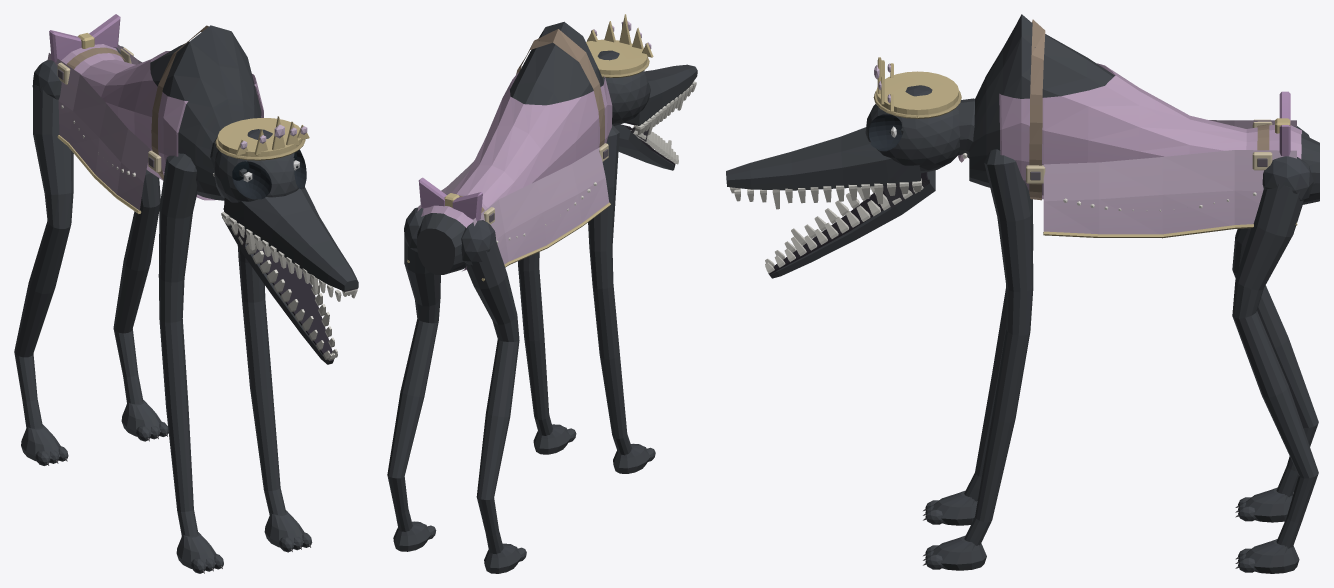
The model's file is LongmawPrincess.glb.
3 views of the same model, side by side, from view 1: azimuth 30°, elevation 25°; view 2: azimuth 150°, elevation 25°; view 3: azimuth 270°, elevation 25° (orthographic). The views are drawn at different scales.
Visible parts, largest first — view 1: Body, Head, ArmR, LegR, ArmL, LegL; view 2: Body, LegR, Head, LegL, ArmR, ArmL; view 3: Body, Head, LegL, ArmL, LegR, ArmR.
Boxes of the visible parts, x1,y1,x2,y2 form: Body: [47, 14, 263, 213]; Head: [210, 116, 358, 364]; ArmR: [158, 153, 223, 573]; LegR: [14, 60, 73, 465]; ArmL: [237, 245, 312, 552]; LegL: [113, 46, 168, 441]; Body: [407, 21, 612, 281]; LegR: [461, 220, 526, 573]; Head: [586, 14, 697, 170]; LegL: [387, 207, 440, 551]; ArmR: [588, 125, 655, 473]; ArmL: [518, 252, 576, 454]; Body: [958, 14, 1319, 238]; Head: [726, 57, 974, 278]; LegL: [1232, 156, 1318, 573]; ArmL: [923, 149, 1033, 570]; LegR: [1232, 126, 1318, 522]; ArmR: [923, 199, 1033, 525].
Bounding box in the file's own units: 1.9 × 6.9 × 7.03.
